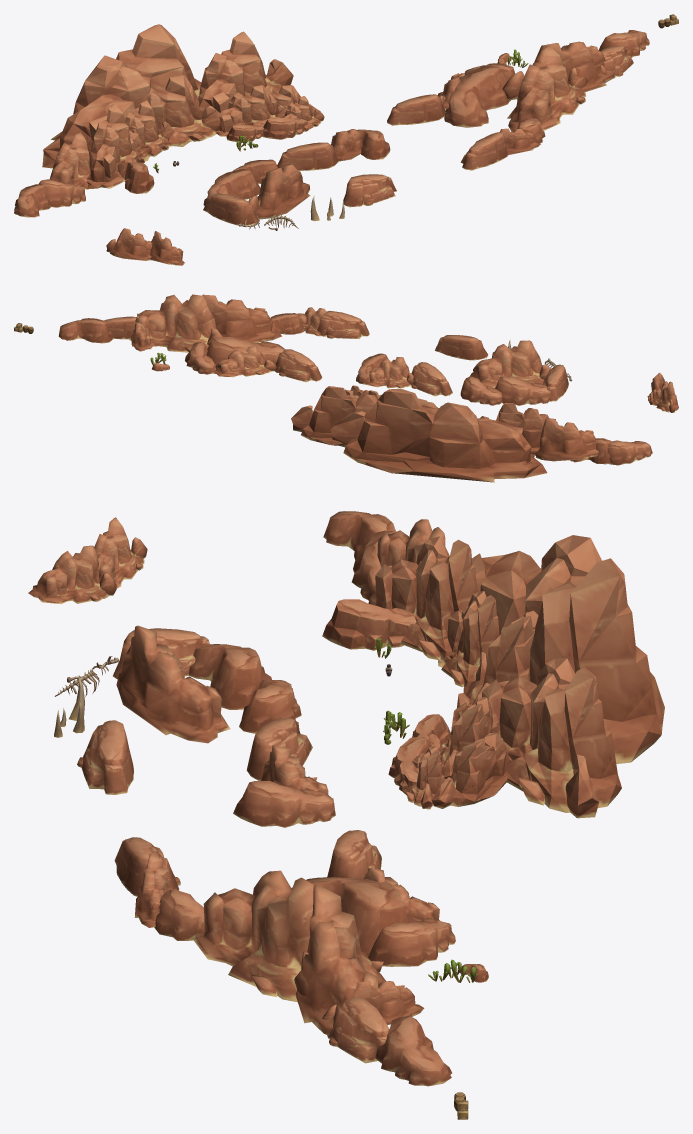
File: rock_red01.fbx
3 views of the same model, one above another, from view 1: azimuth 30°, elevation 25°; view 2: azimuth 150°, elevation 25°; view 3: azimuth 270°, elevation 25° (orthographic). The views are drawn at different scales.
Parts seen in each view (by area): view 1: rock_red01; view 2: rock_red01; view 3: rock_red01.
Part boxes in pixels (x1=…): rock_red01: x1=14, y1=14, x2=678, y2=265; rock_red01: x1=14, y1=294, x2=678, y2=482; rock_red01: x1=28, y1=511, x2=664, y2=1119.
Bounding box in the file's own units: 18068 × 2246 × 8206.
1 material, 1 textured.
